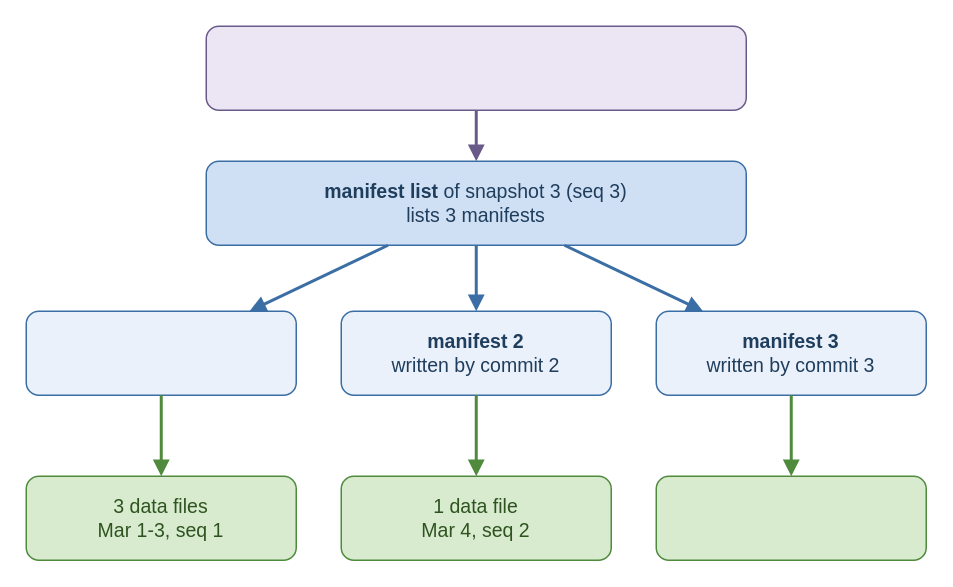
Some shapes in this 953 by 587 pixel diagram are drawn without their labels. Here are the shapes that lost their labels. From the top down, the centre of each, then its label:
At (475,67): "catalog : version-hint.text points to v3.metadata.json".
At (160,352): "manifest 1 written by commit 1".
At (790,517): "1 data file Mar 5, seq 3".
